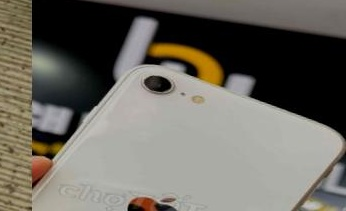scratch: (114, 187, 180, 211)
